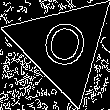O_S: (35, 15, 91, 77)
